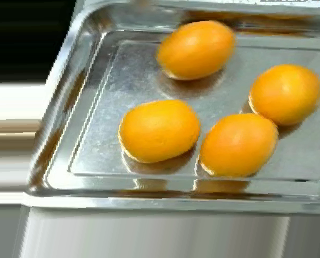Orange: (117, 99, 200, 165), (199, 112, 279, 178), (155, 18, 235, 79), (248, 63, 320, 127)
